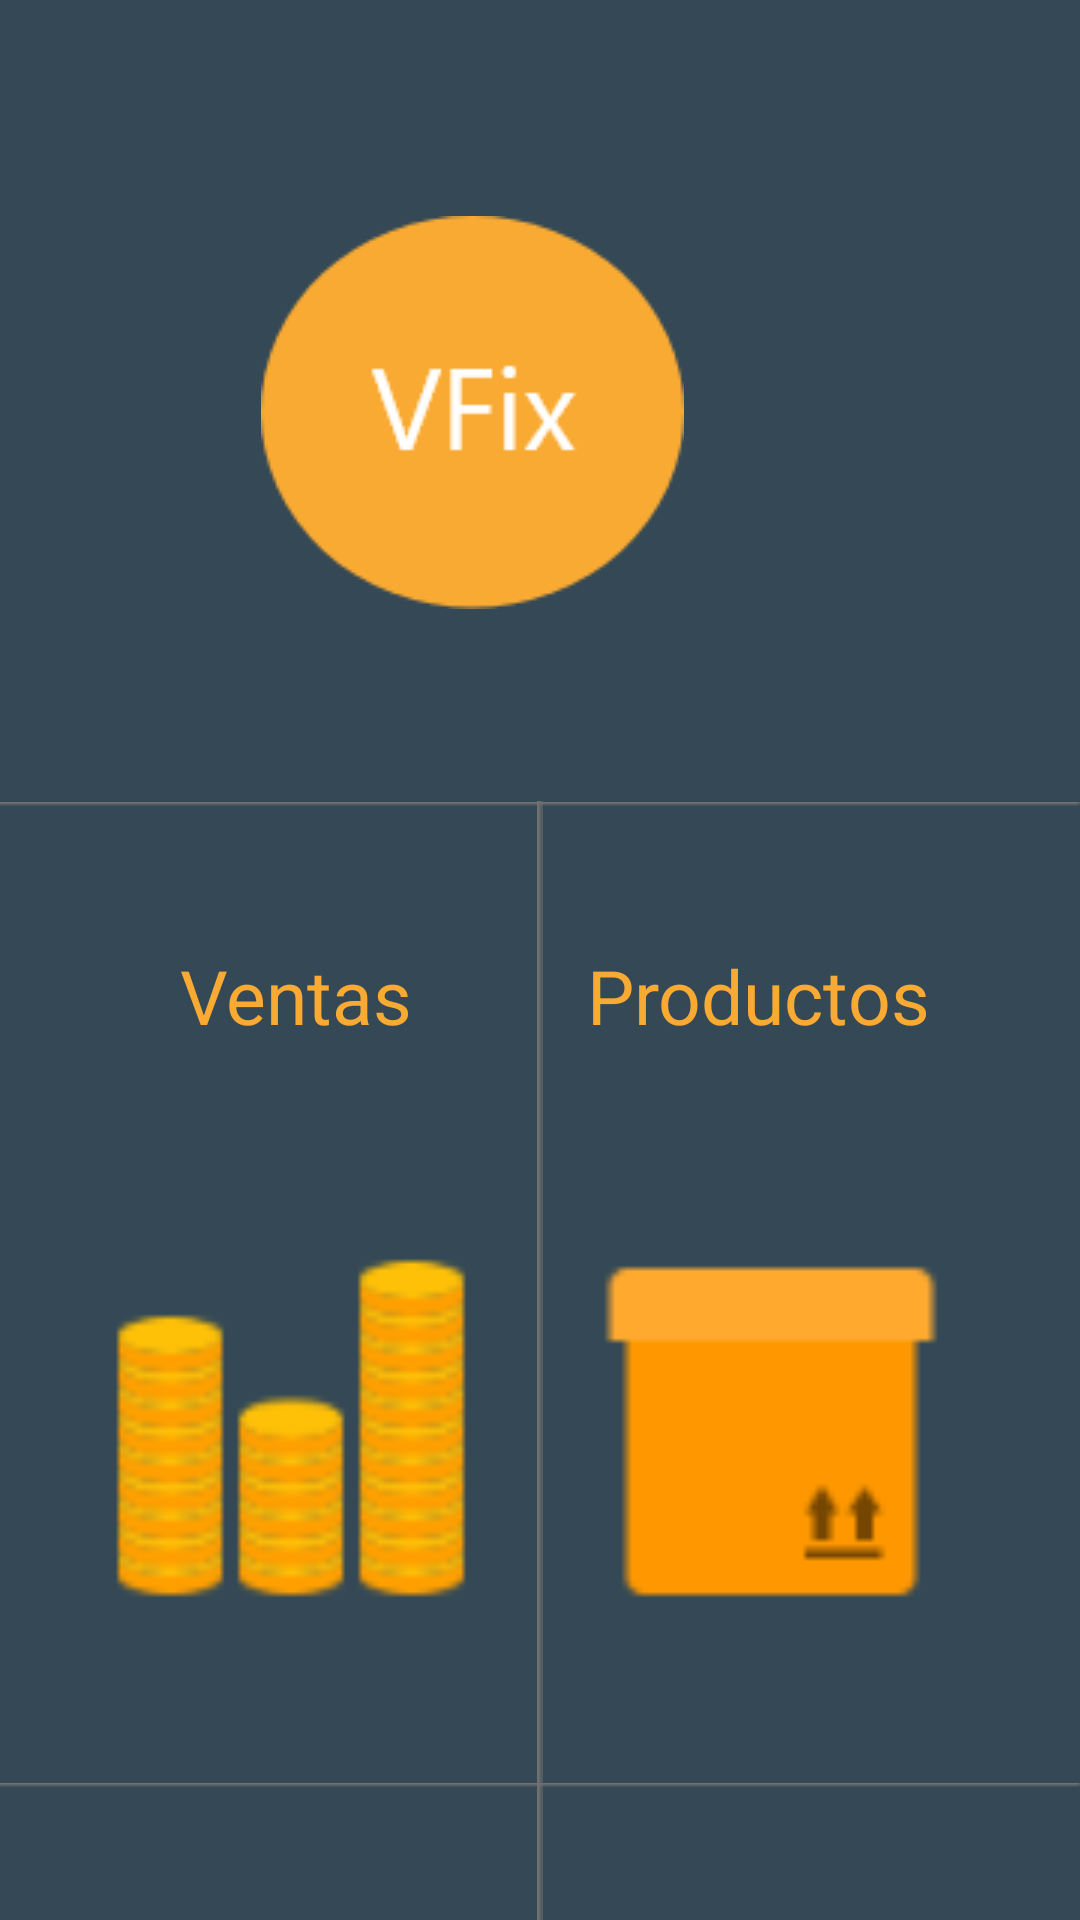

Where icons sit on this 1080x1920 app screen, as bbox(x1, y1, x2, y2):
moneda: bbox(116, 1259, 466, 1597)
producto: bbox(605, 1266, 937, 1597)
